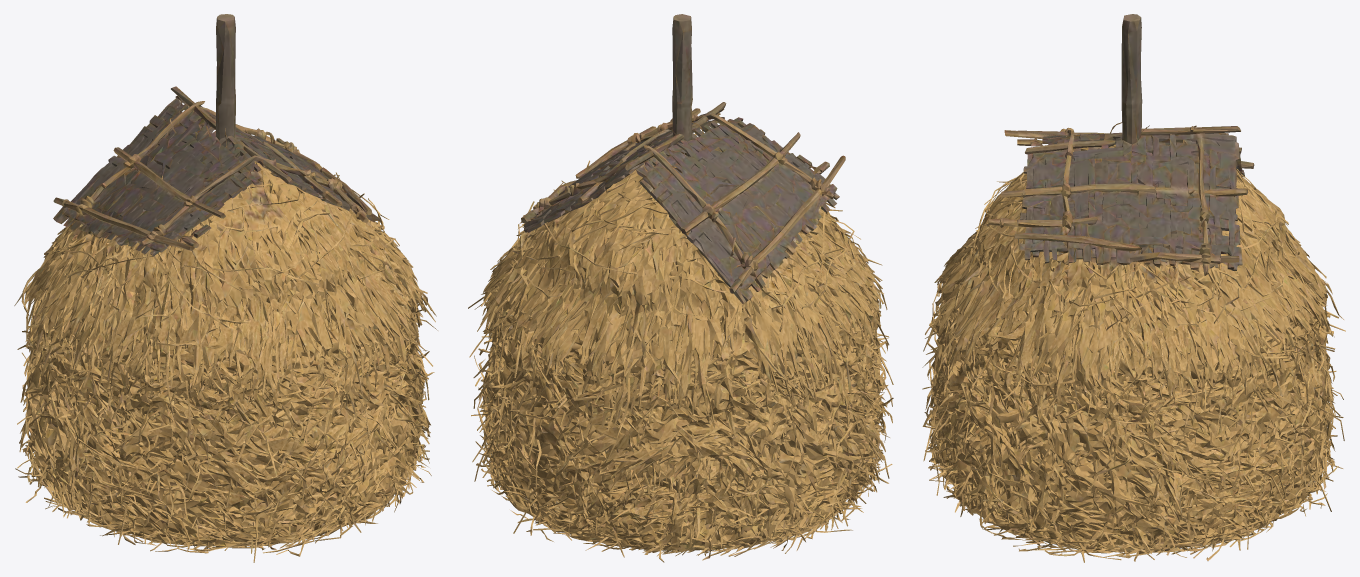
Rendered from haystack-mat.glb.
3 renders of one model, left to right at view 1: azimuth 30°, elevation 25°; view 2: azimuth 150°, elevation 25°; view 3: azimuth 270°, elevation 25°, orthographic.
Parts seen in each view (by area): view 1: output_unwrapped; view 2: output_unwrapped; view 3: output_unwrapped.
Boxes of the visible parts, x1=… form: output_unwrapped: x1=14, y1=14, x2=437, y2=562; output_unwrapped: x1=468, y1=14, x2=893, y2=562; output_unwrapped: x1=922, y1=14, x2=1345, y2=562.
Bounding box in the file's own units: 1.6 × 1.91 × 1.57.
Materials: 1 (1 with a texture image).
